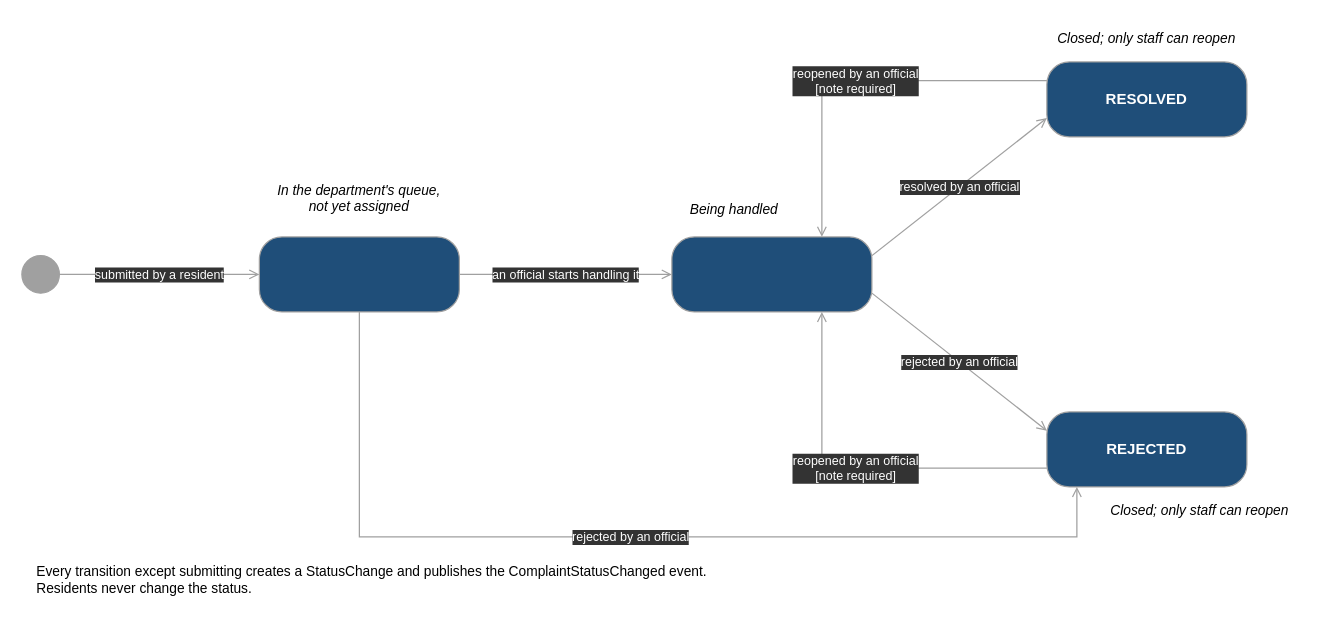
Some shapes in this 1331 by 626 pixel diagram are drawn without their labels. Each missing label, with the centre of its shape:
"IN_PROGRESS" belongs at (771,274).
"RECEIVED" belongs at (358,274).
